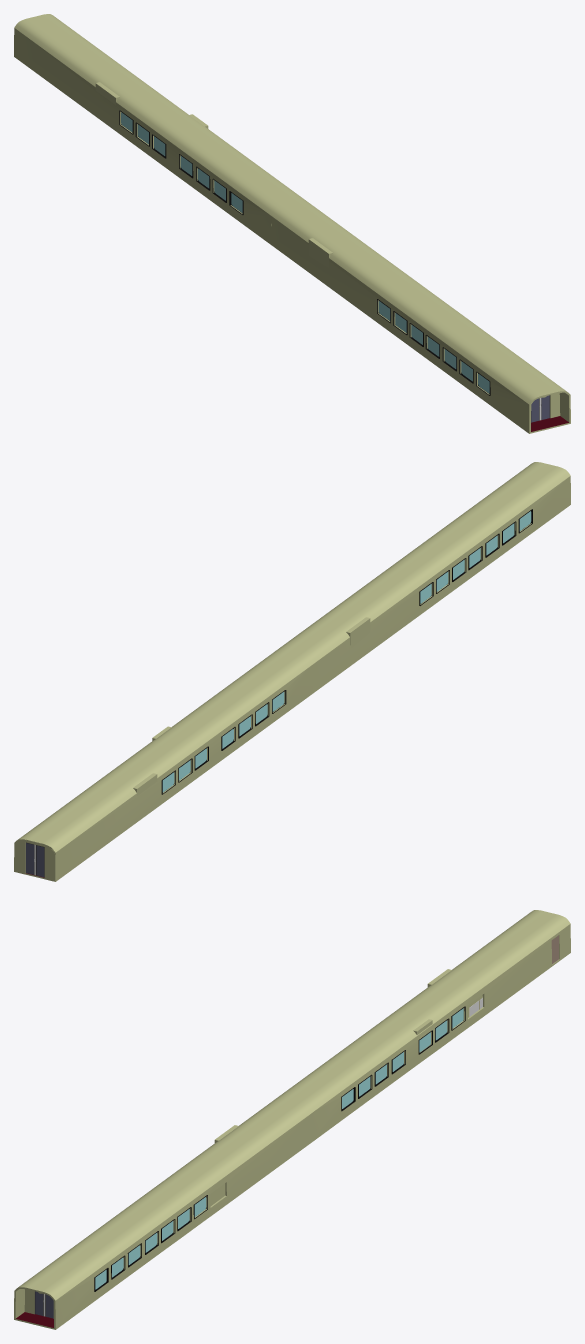
The model's file is Вагон_макет (6).fbx.
3 views of the same model, one above another, from view 1: azimuth 30°, elevation 25°; view 2: azimuth 150°, elevation 25°; view 3: azimuth 330°, elevation 25° (orthographic).
Parts seen in each view (by area): view 1: Вагон.001, Вагон; view 2: Вагон, Вагон.001, Стенка3.004; view 3: Вагон.001, Вагон.
Part boxes in pixels (x1,y1,x2,y2): Вагон.001: (271,202,570,433); Вагон: (14,14,308,244); Вагон: (14,650,313,881); Вагон.001: (275,462,570,692); Стенка3.004: (14,839,55,881); Вагон.001: (14,1098,313,1329); Вагон: (276,910,570,1140).
Bounding box in the file's own units: 373 × 289 × 7672.
